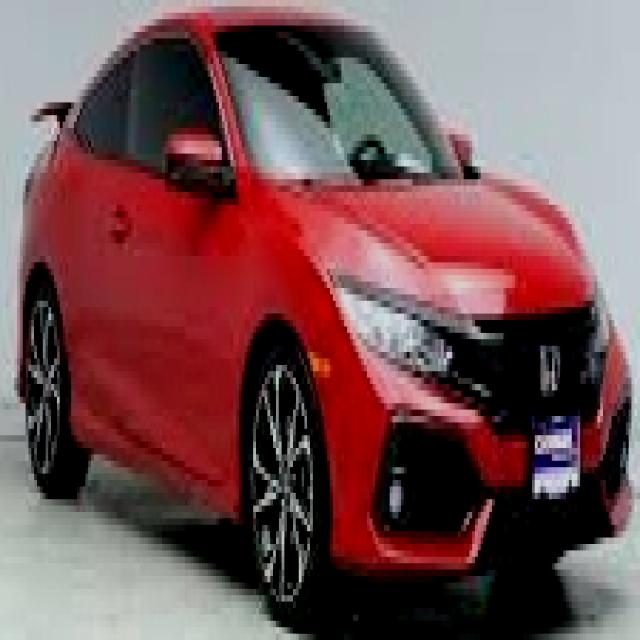red: (20, 0, 640, 570)
